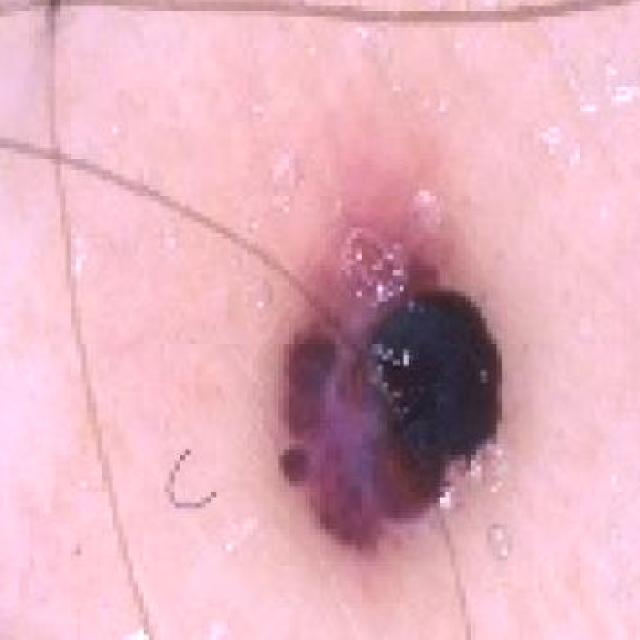VASC: (226, 198, 574, 618)
